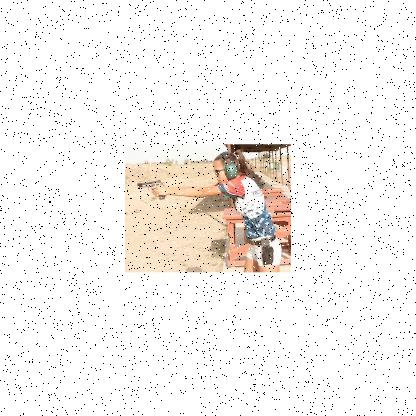gun: (135, 178, 167, 198)
